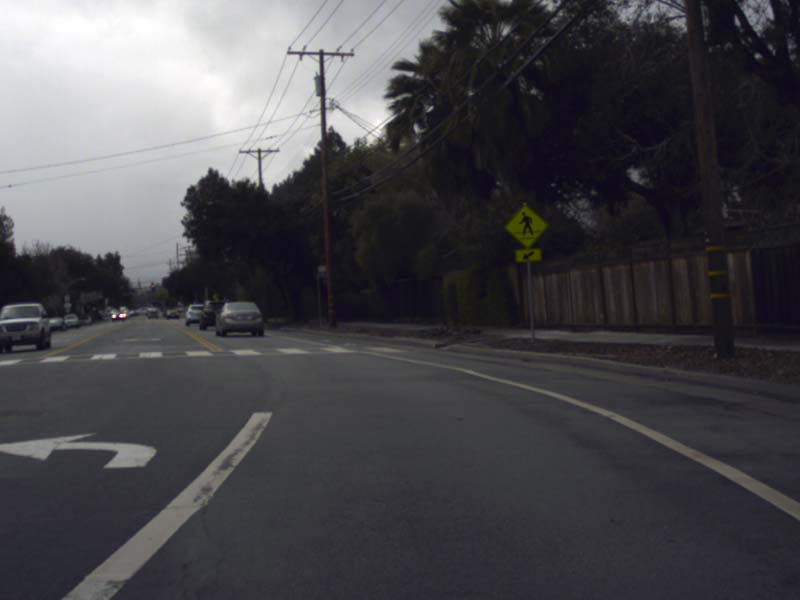Red: (151, 284, 154, 292)
